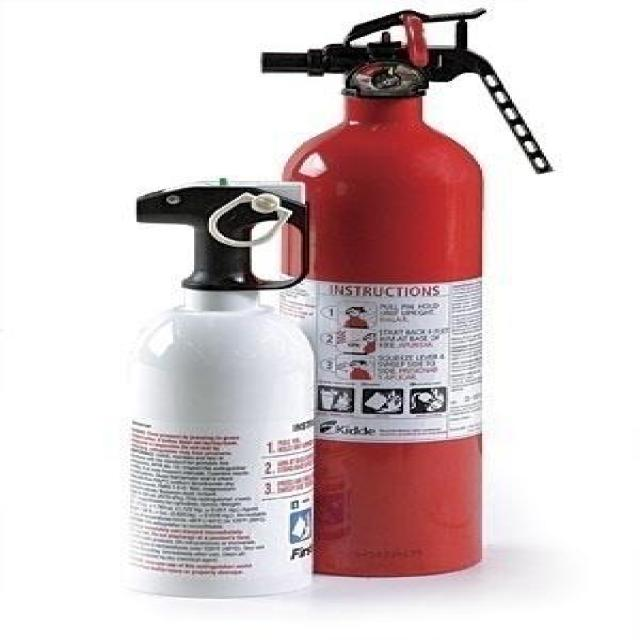fire_extinguisher: (247, 4, 559, 581), (115, 171, 320, 599)
